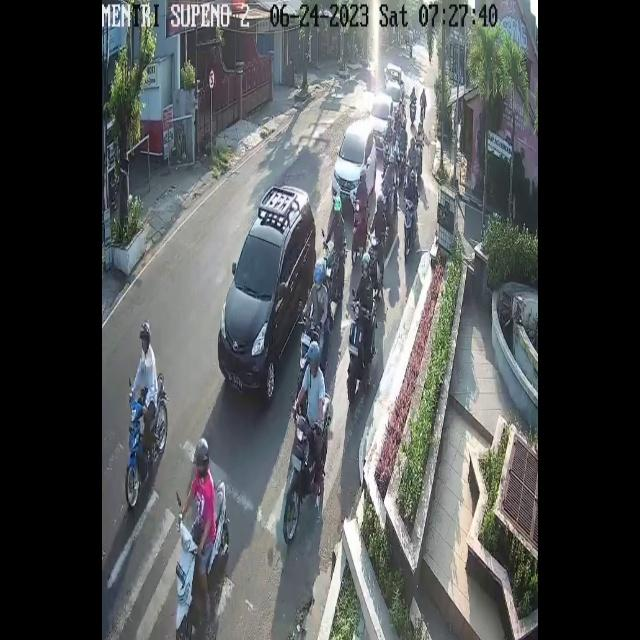bus: (175, 481, 229, 640), (283, 390, 332, 542), (125, 372, 169, 510), (348, 298, 378, 396), (326, 240, 346, 302), (351, 197, 368, 263), (299, 316, 317, 378), (404, 197, 416, 251), (384, 182, 397, 221), (370, 236, 380, 268), (382, 139, 390, 174), (416, 141, 423, 177), (398, 142, 406, 170), (410, 96, 415, 125)
motorcycle: (219, 185, 316, 401), (333, 121, 376, 210), (368, 92, 393, 152), (384, 80, 402, 116)
truck: (385, 62, 405, 94)
